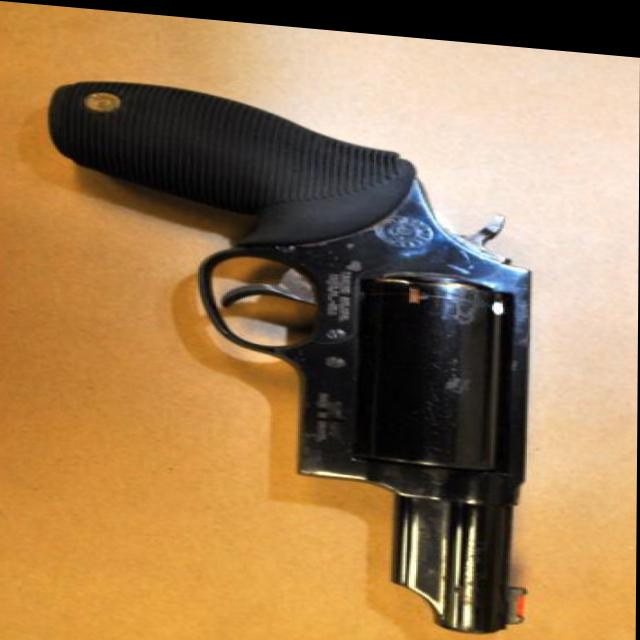handgun: (47, 78, 555, 630)
